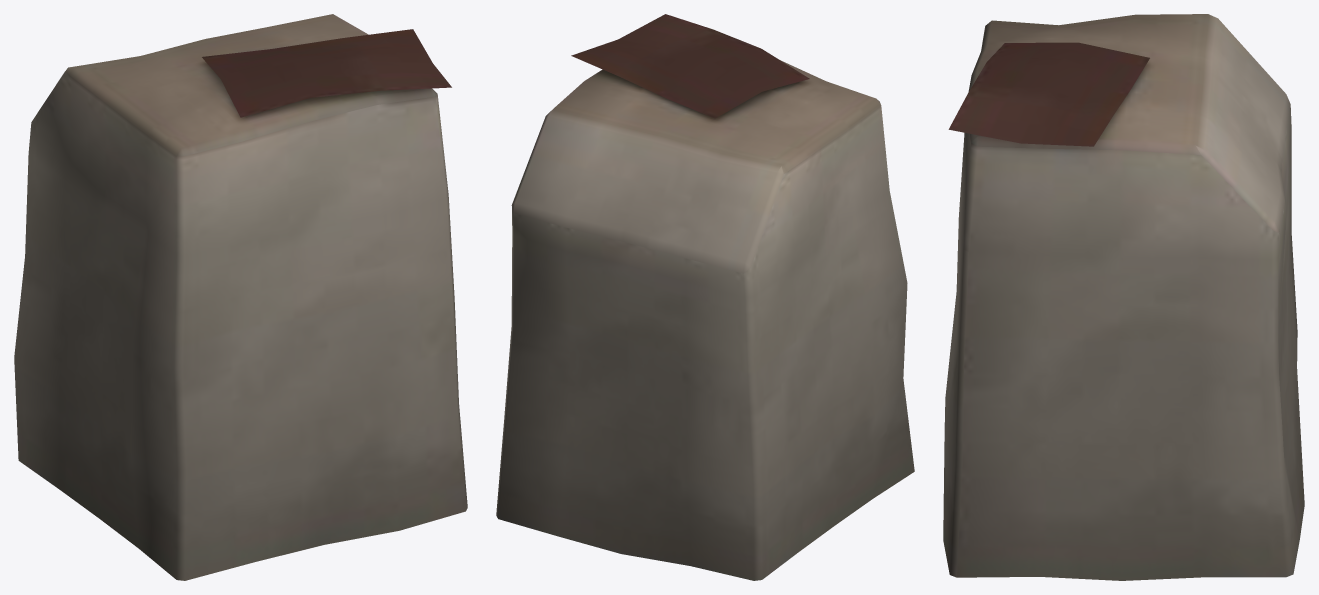
The model's file is MSH_Building_008.glb.
3 views of the same model, side by side, from view 1: azimuth 30°, elevation 25°; view 2: azimuth 150°, elevation 25°; view 3: azimuth 270°, elevation 25° (orthographic). The views are drawn at different scales.
Visible parts, largest first — view 1: Base.012; view 2: Base.012; view 3: Base.012.
Part boxes in pixels (x1,y1,x2,y2): Base.012: [14, 14, 467, 580]; Base.012: [496, 14, 914, 580]; Base.012: [943, 14, 1304, 580].
Bounding box in the file's own units: 5.46 × 7.48 × 5.44.
1 material, 1 textured.
